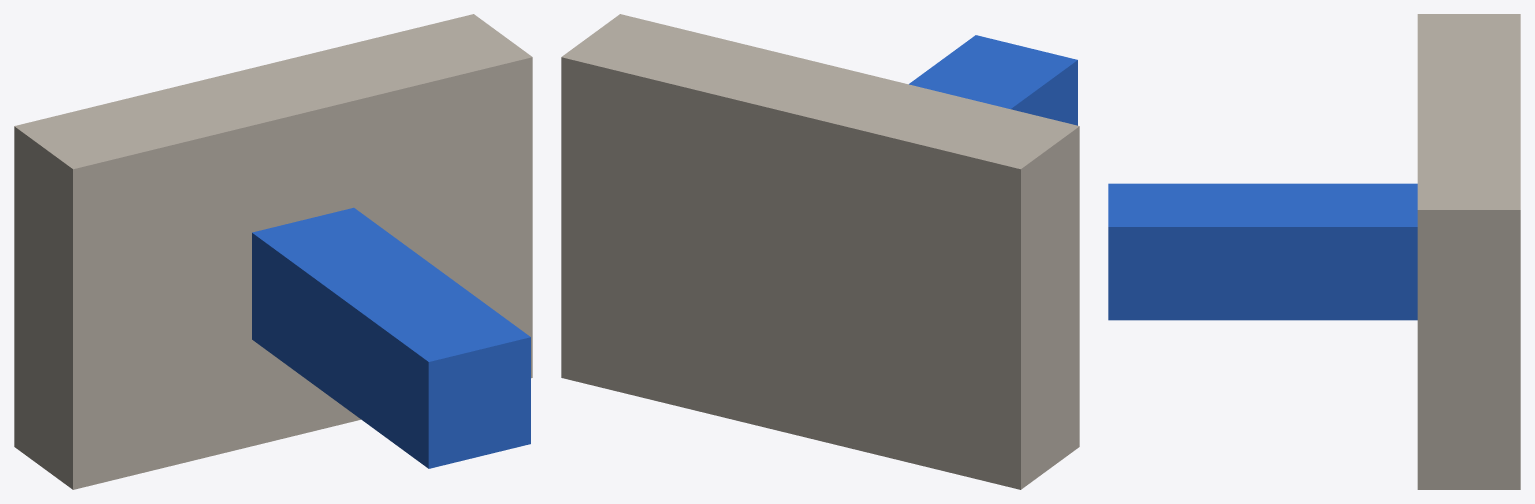
File: bracket.obj
The picture shows the model from 3 angles, left to right: view 1: azimuth 30°, elevation 25°; view 2: azimuth 150°, elevation 25°; view 3: azimuth 270°, elevation 25°; orthographic projection. The views are drawn at different scales.
Parts seen in each view (by area): view 1: Bracket; view 2: Bracket; view 3: Bracket.
Boxes of the visible parts, x1,y1,x2,y2 form: Bracket: (14,14,532,489); Bracket: (561,14,1079,489); Bracket: (1108,14,1520,489).
Size of the model in its own units: 0.18 by 0.12 by 0.16.
